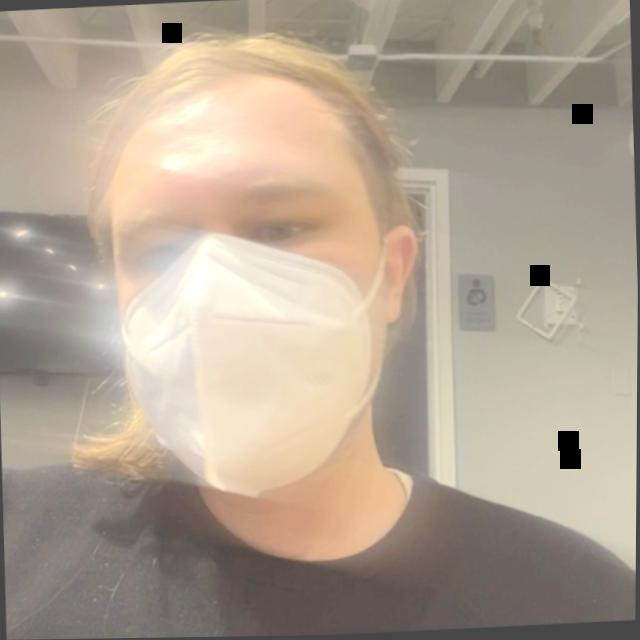Mask: (64, 23, 488, 582)
